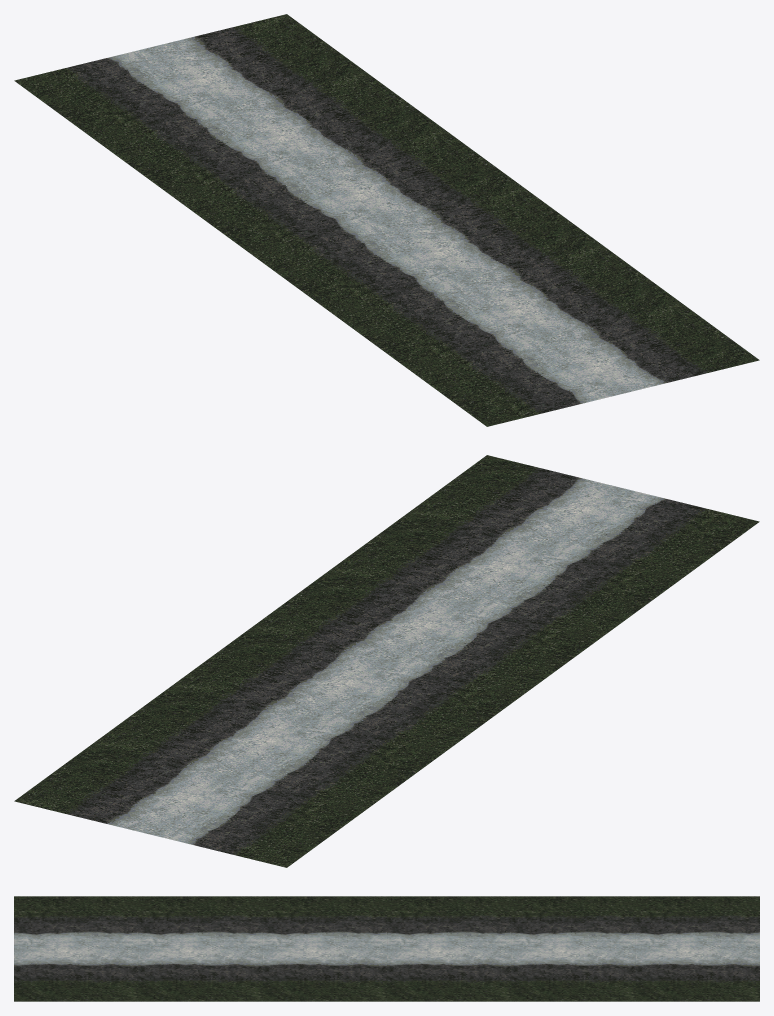
The model's file is SM_EC_Path_0.fbx.
3 views of the same model, one above another, from view 1: azimuth 30°, elevation 25°; view 2: azimuth 150°, elevation 25°; view 3: azimuth 270°, elevation 25° (orthographic). The views are drawn at different scales.
Parts seen in each view (by area): view 1: SM_EC_Path_0; view 2: SM_EC_Path_0; view 3: SM_EC_Path_0.
Boxes of the visible parts, x1=… form: SM_EC_Path_0: x1=14, y1=14, x2=759, y2=426; SM_EC_Path_0: x1=14, y1=455, x2=759, y2=867; SM_EC_Path_0: x1=14, y1=896, x2=759, y2=1001.
Size of the model in its own units: 6 by 18 by 0.
